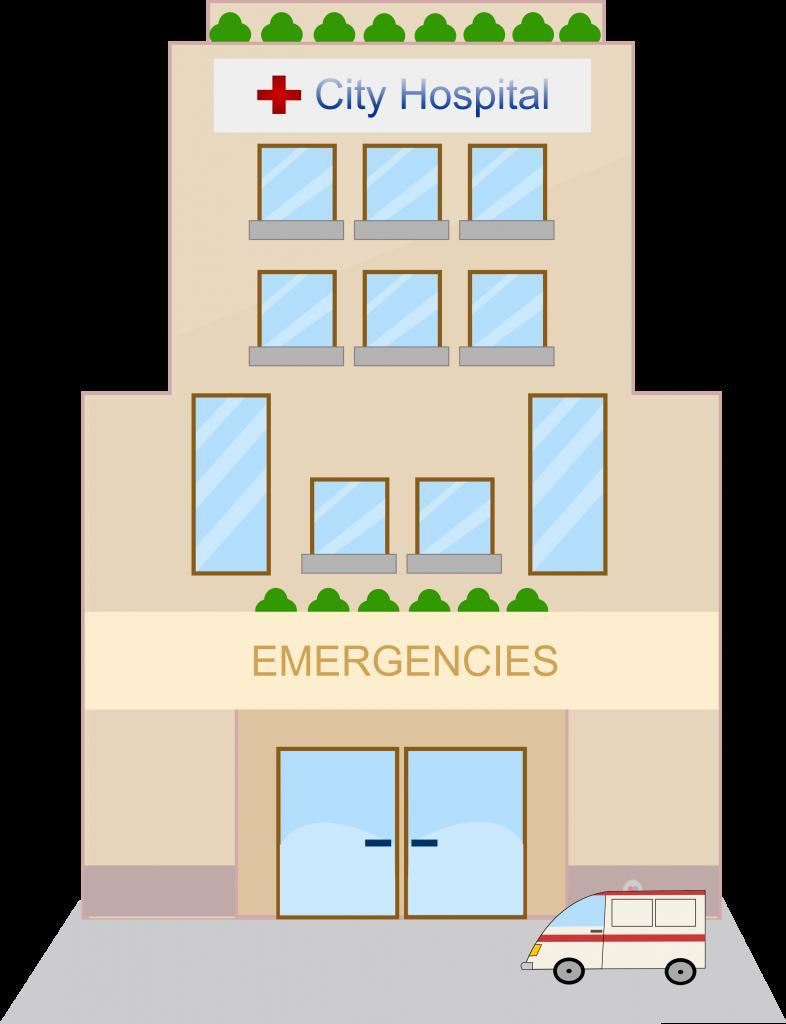car: (517, 881, 709, 994)
